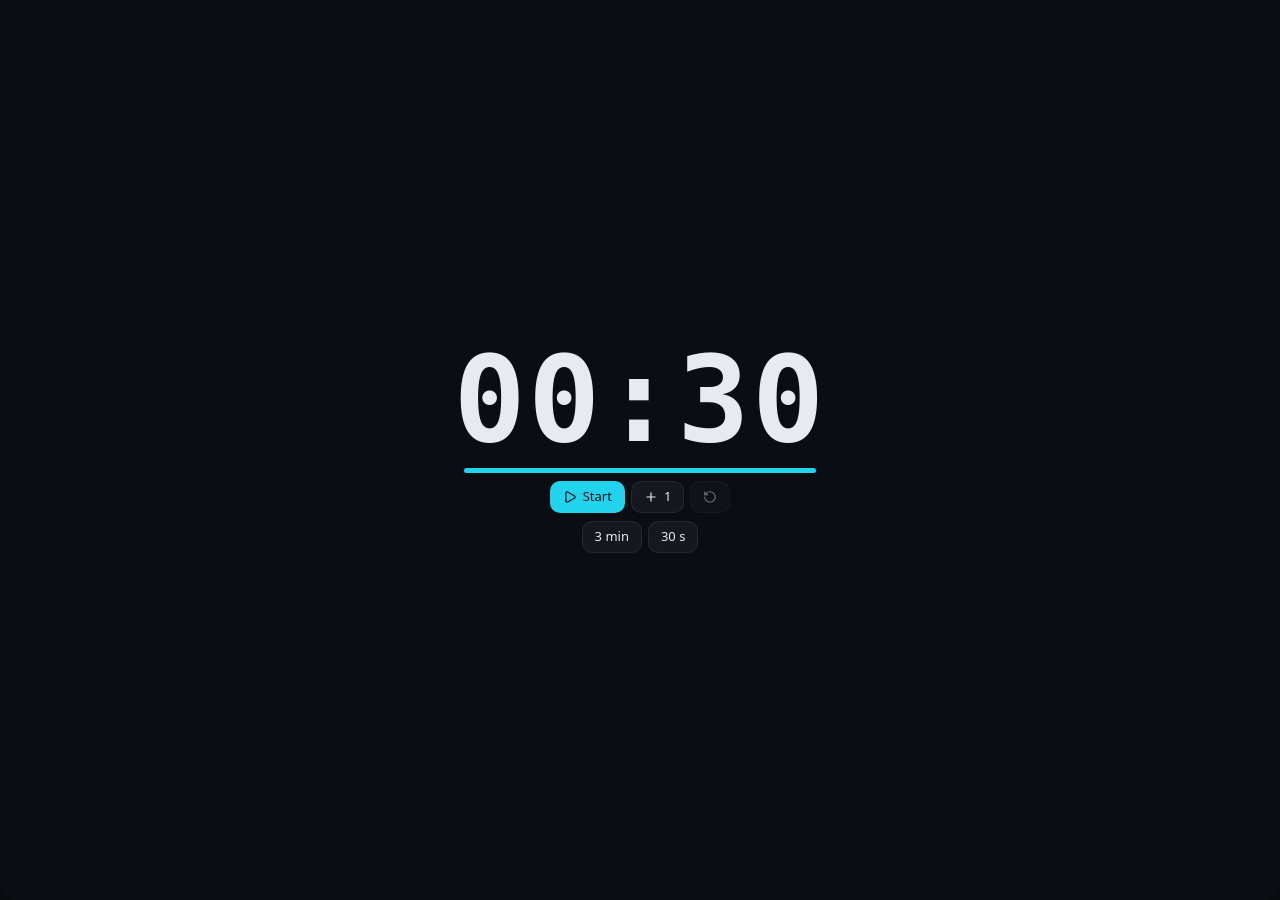
Test case: the timer › flashes the card when done until somebody stops it
What coordinates should you click on to do the following:
click the button "Start"
I would click on:
 (587, 496)
Its box is [550,480,625,512].
Wait 31000 ms
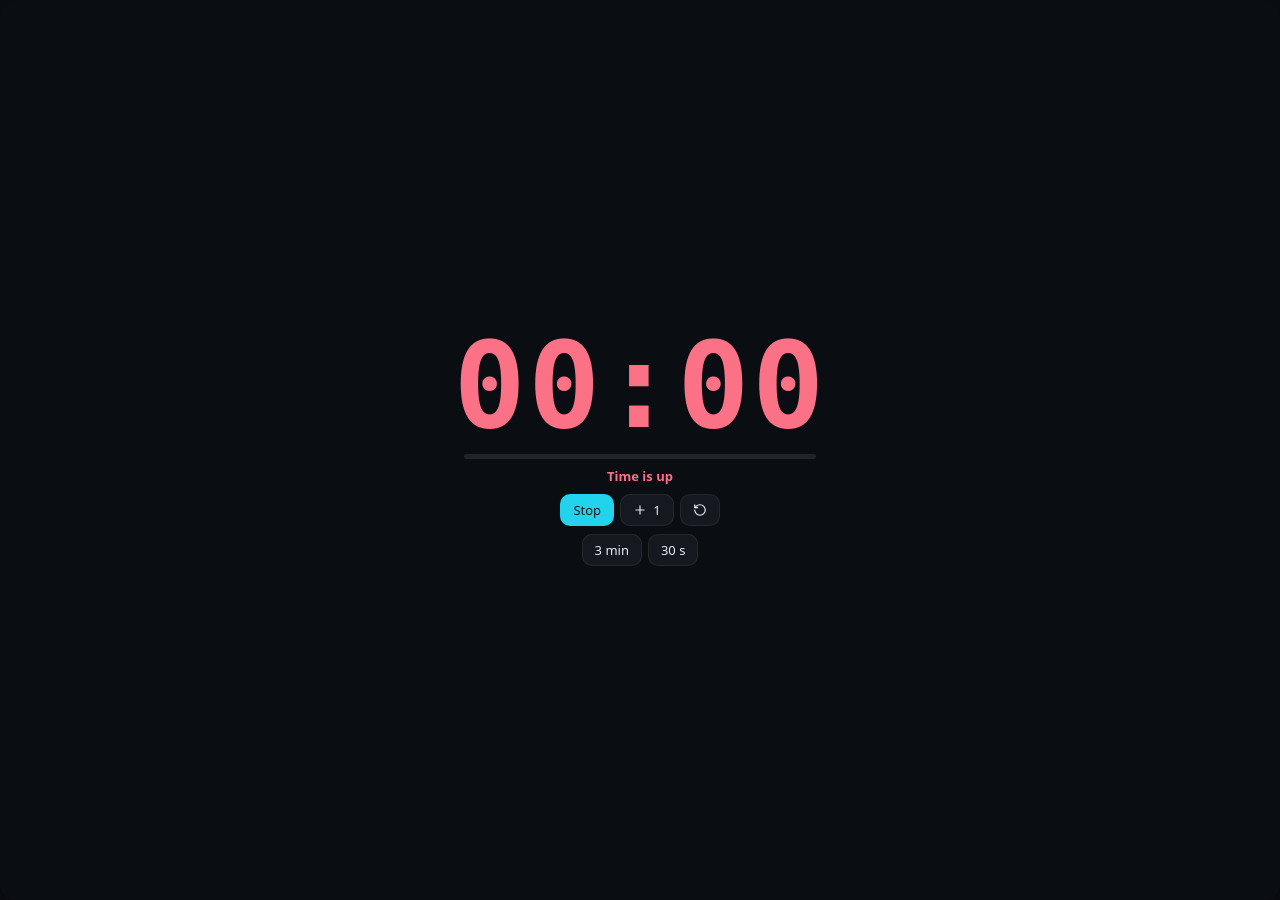
expect the text "Time is up" is shown: met, box [607,467,673,486]
What coordinates should you click on to do the following:
click the button "Stop"
I would click on:
 (587, 510)
Its box is [560,494,614,526].
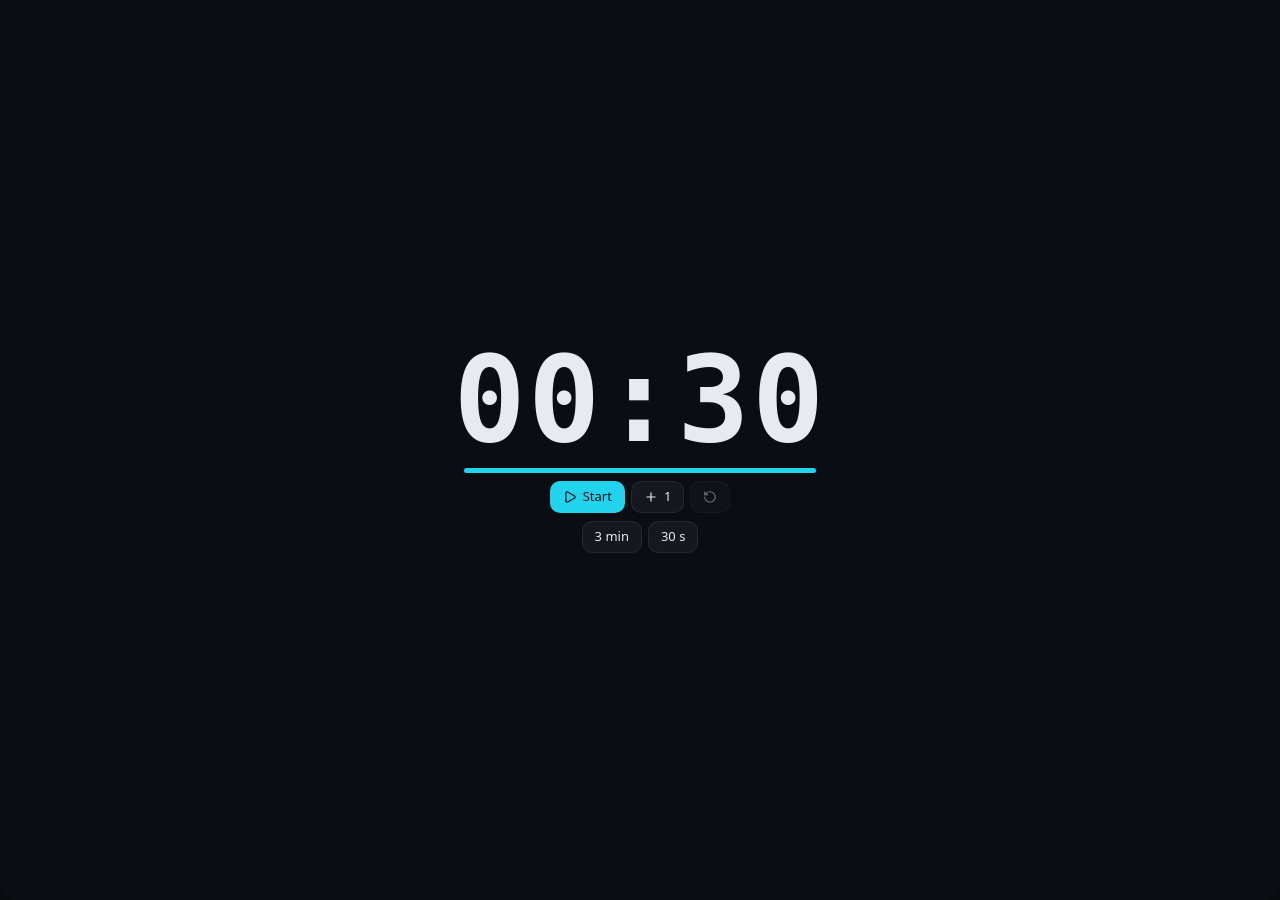
expect the text "00:30" is shown: met, box [453,340,827,460]
